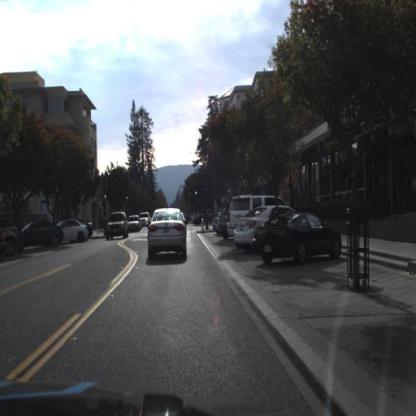car: (254, 207, 345, 265), (233, 205, 299, 250), (227, 194, 288, 242), (146, 203, 190, 264), (14, 219, 64, 252), (17, 219, 66, 250), (234, 206, 265, 250), (57, 217, 89, 246), (227, 193, 245, 244), (103, 210, 128, 242), (60, 218, 88, 245), (127, 212, 142, 238), (126, 214, 143, 235), (138, 211, 152, 229)
trafficLight-Green: (126, 191, 131, 204), (195, 186, 200, 199)
